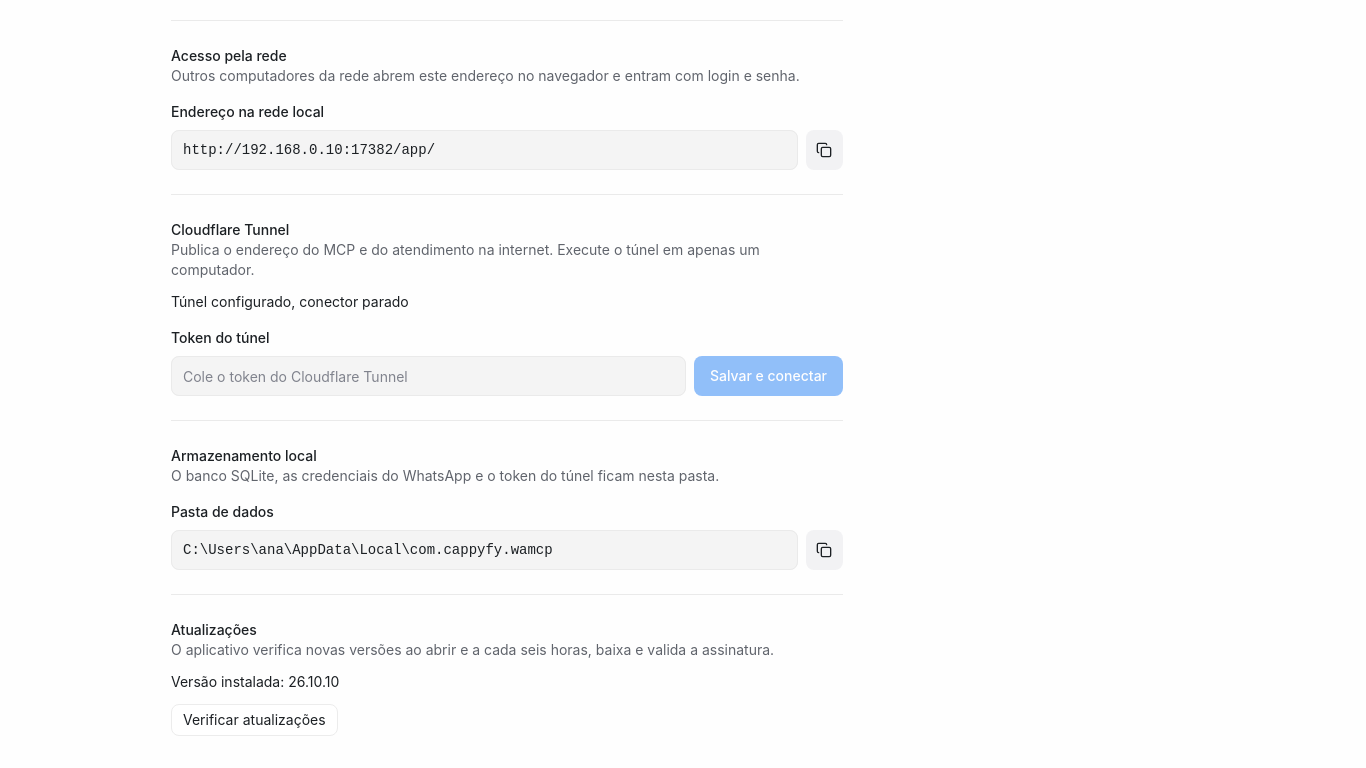
it: desktop updates › checks on demand from the settings page and reports failures without offering installation
(page scrolled)
Click the button "Verificar atualizações" at (254,720), box top-left (171, 704), bottom-right (338, 736)
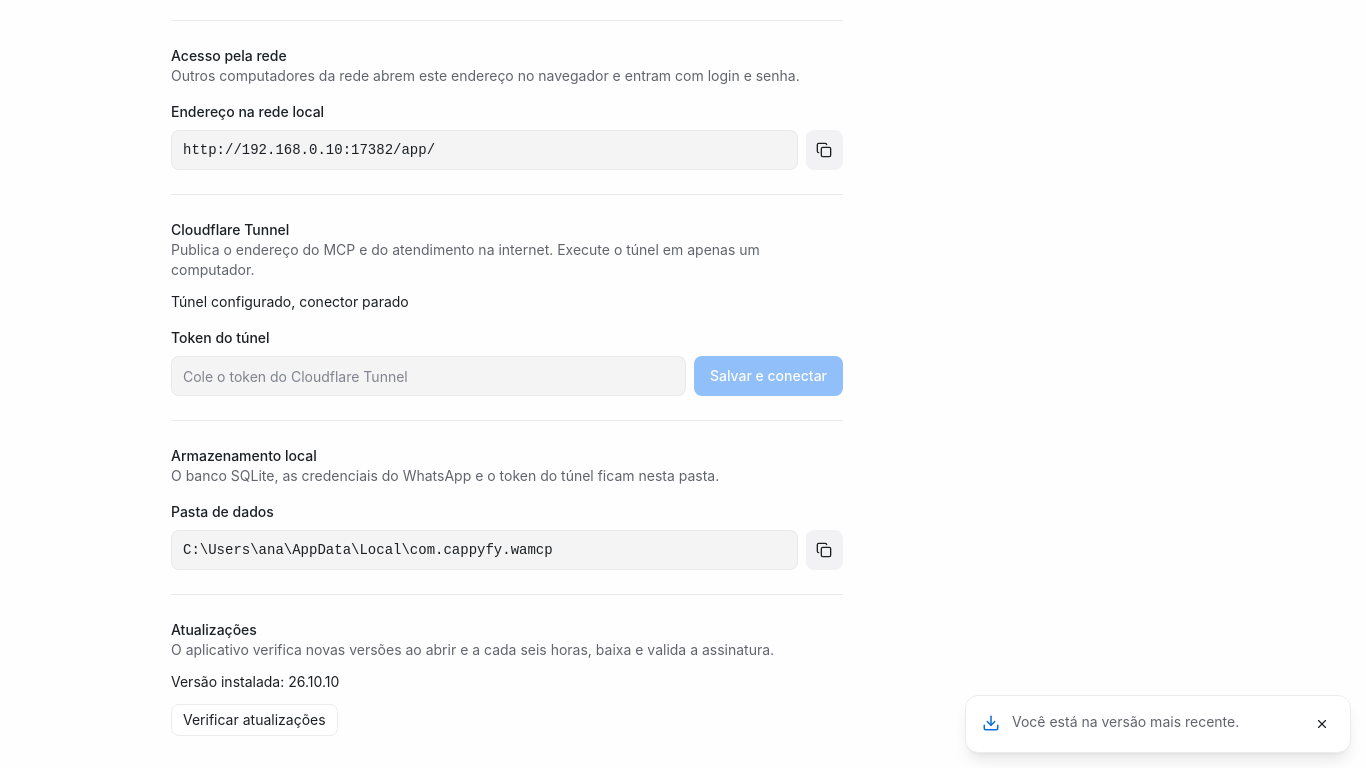
Result: the text "Você está na versão mais recente." is shown at top-left (1012, 713), bottom-right (1239, 730)
Click the button named "Fechar aviso de atualização" at (1322,724), box top-left (1310, 712), bottom-right (1334, 736)
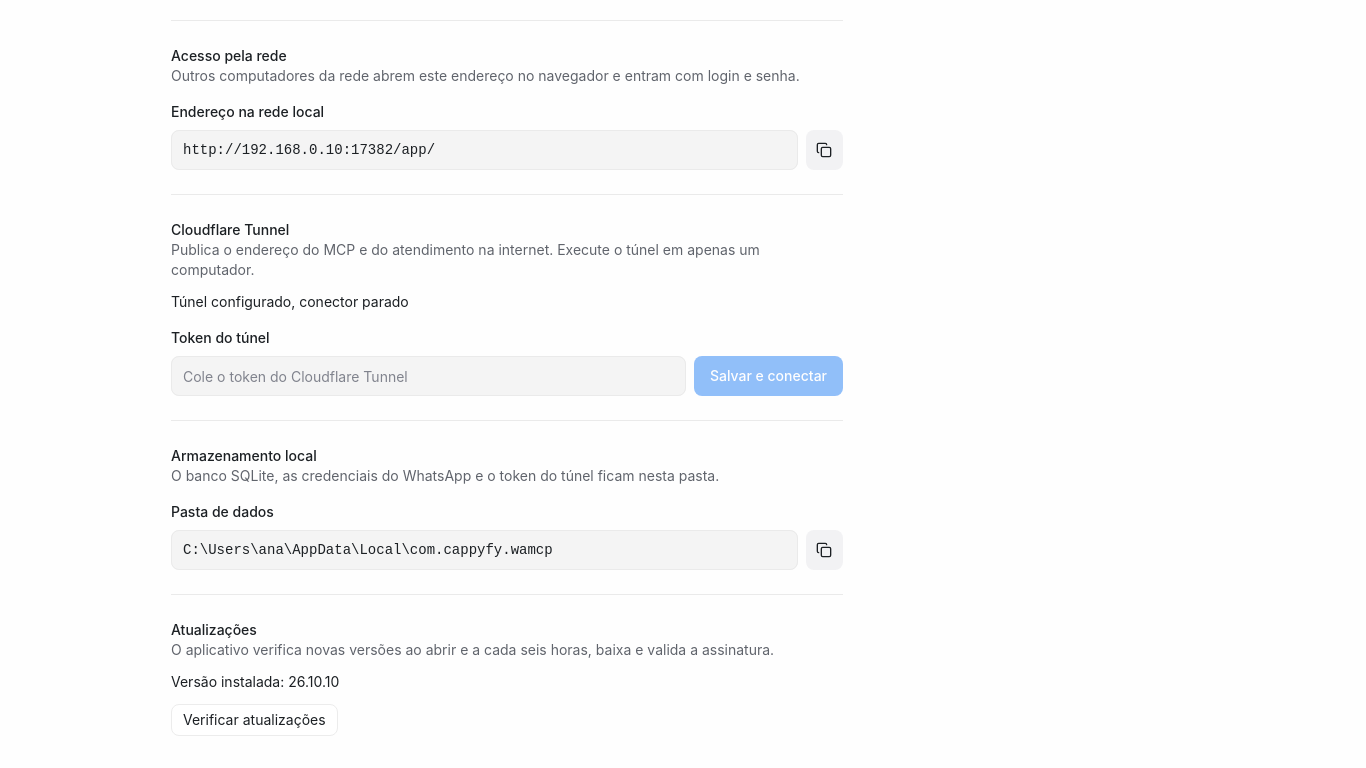
Result: the message "Você está na versão mais recente." is gone
Click the button "Verificar atualizações" at (254,720), box top-left (171, 704), bottom-right (338, 736)
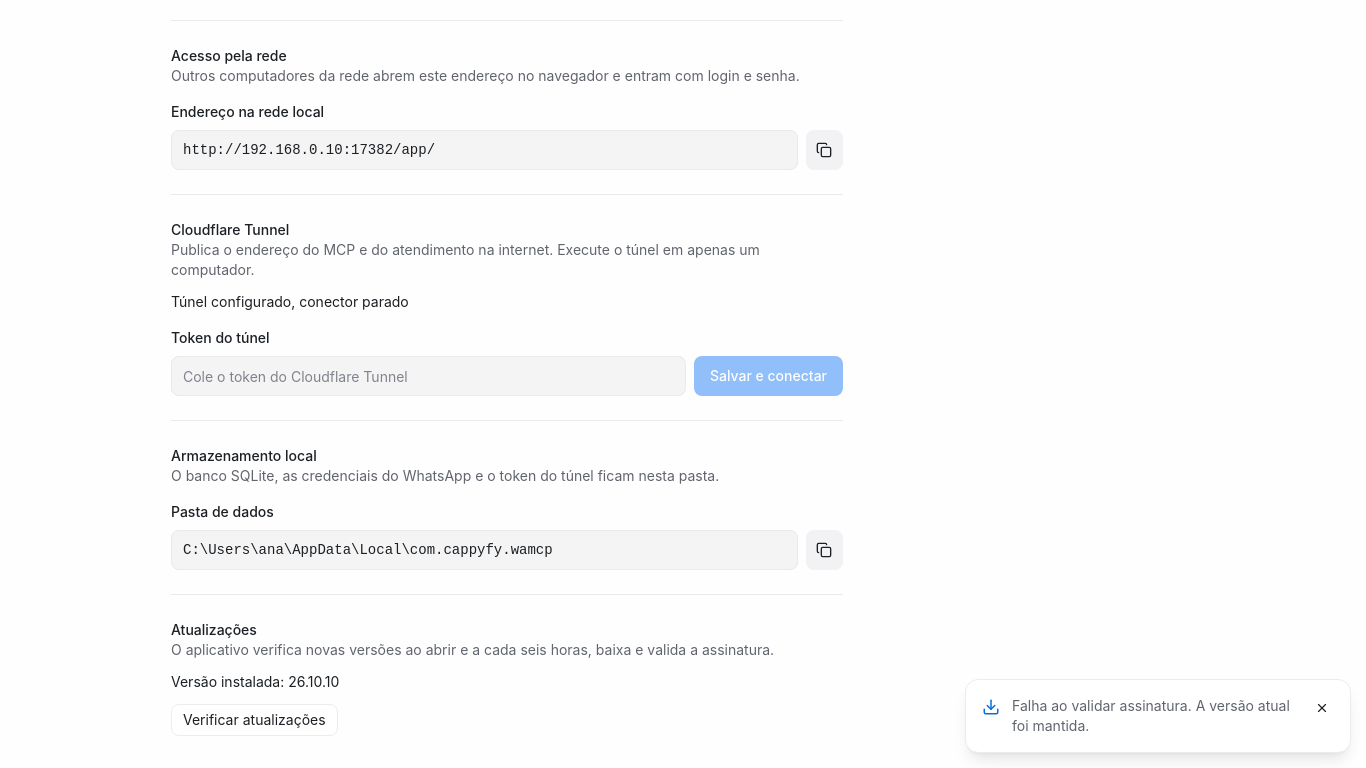
Result: the text "Falha ao validar assinatura. A versão atual foi mantida." is shown at top-left (1012, 696), bottom-right (1298, 736)
